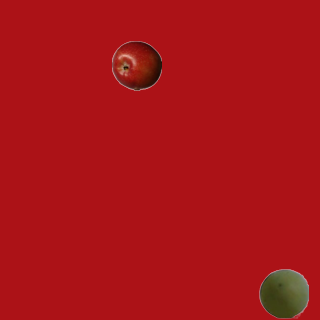Apple Braeburn: (111, 40, 161, 90)
Grape White 4: (258, 268, 308, 318)
